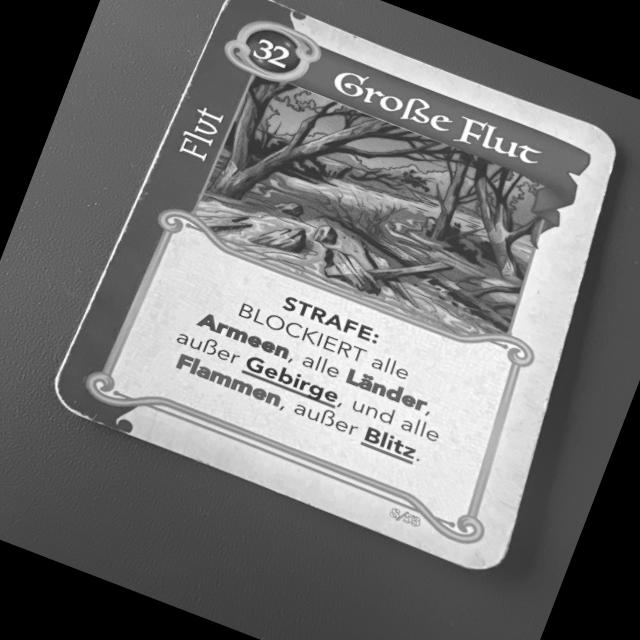Great Flood: (40, 0, 625, 589)
